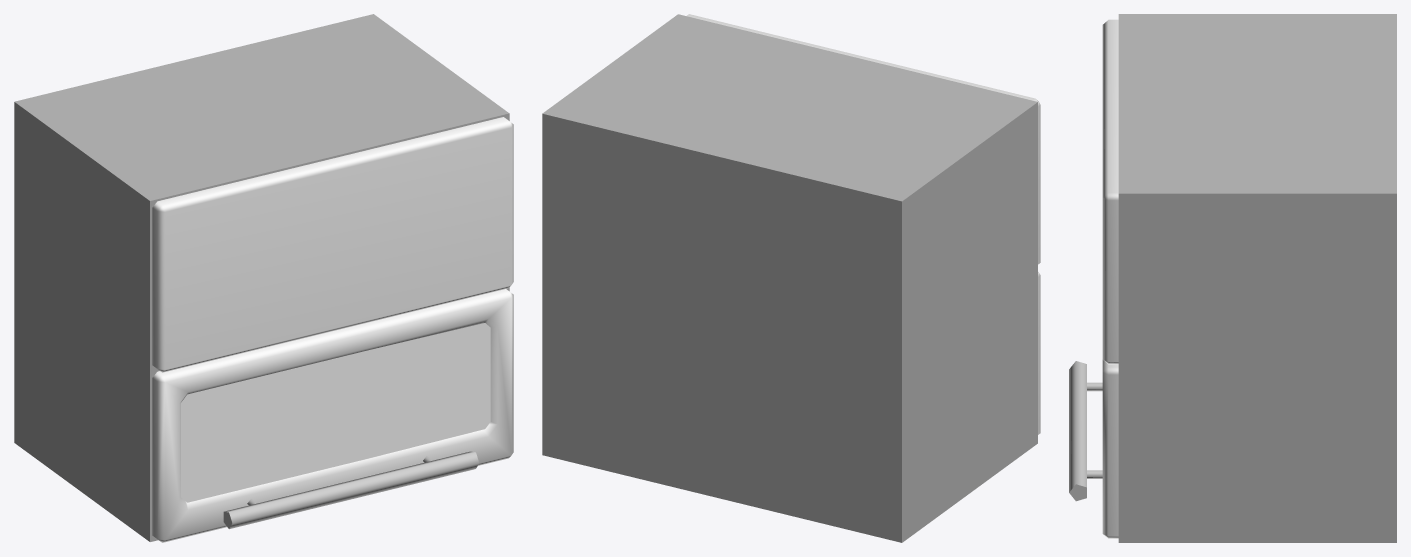
Rendered from kitchen_017.fbx.
3 renders of one model, left to right at view 1: azimuth 30°, elevation 25°; view 2: azimuth 150°, elevation 25°; view 3: azimuth 270°, elevation 25°, orthographic. The views are drawn at different scales.
Parts seen in each view (by area): view 1: kitchen_017; view 2: kitchen_017; view 3: kitchen_017.
Boxes of the visible parts, x1,y1,x2,y2 form: kitchen_017: [14, 14, 513, 542]; kitchen_017: [542, 14, 1040, 542]; kitchen_017: [1069, 14, 1396, 542].
Size of the model in its own units: 94.84 by 73.12 by 86.
